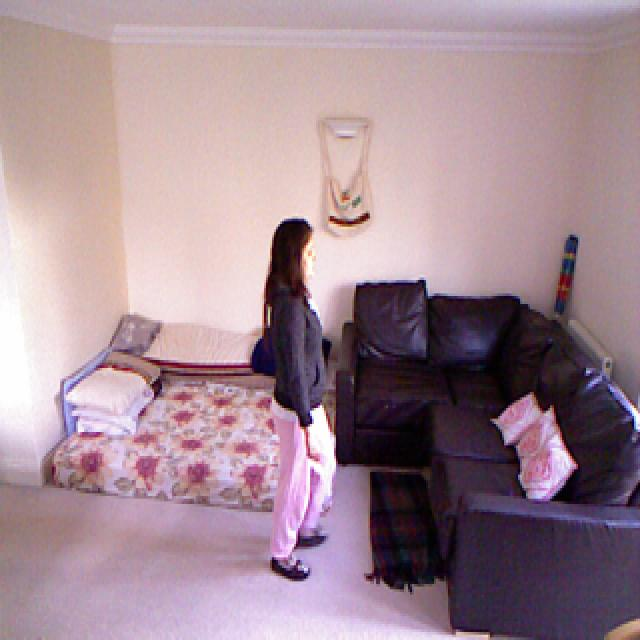standing: (259, 217, 335, 586)
